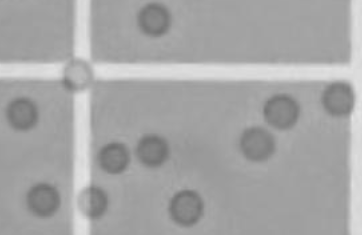cell: (232, 122, 280, 170), (163, 183, 210, 230), (316, 75, 360, 122), (259, 88, 302, 134), (58, 52, 101, 97), (132, 130, 174, 175), (133, 1, 175, 44), (95, 138, 133, 181), (24, 180, 64, 220), (3, 94, 41, 136), (74, 183, 111, 222)
